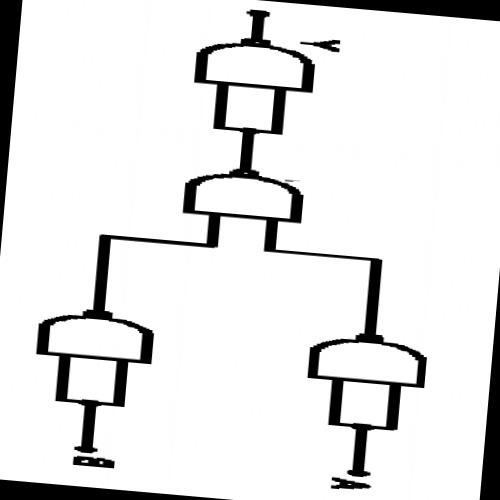nand: (274, 321, 470, 399), (158, 158, 326, 230), (177, 28, 331, 98), (16, 299, 165, 370)
